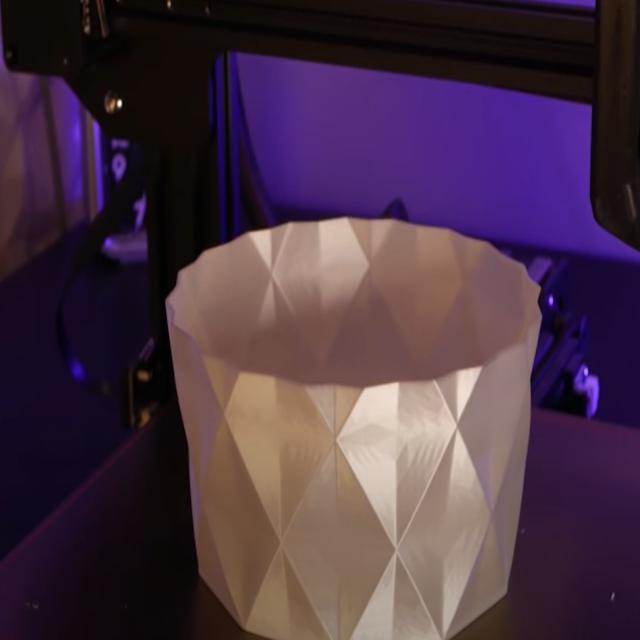Without deffect: (148, 180, 544, 640)
